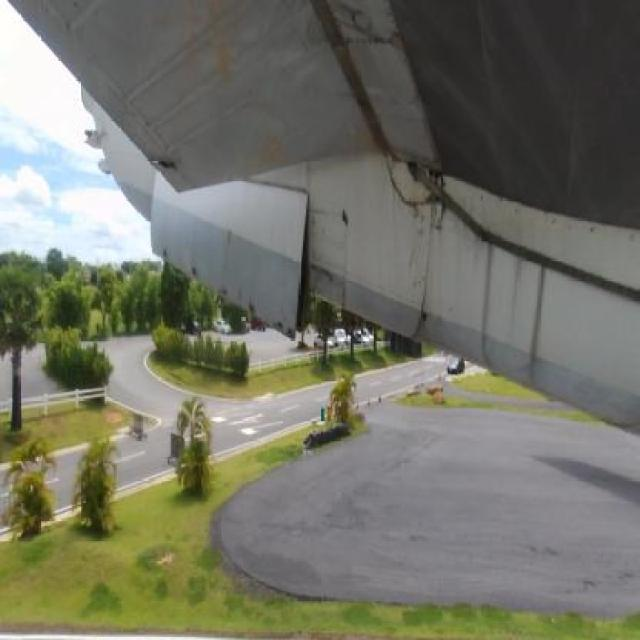Missing-Rivet: (318, 4, 351, 56), (336, 28, 396, 55)
Rust: (470, 222, 550, 390), (158, 0, 272, 111), (382, 145, 458, 243), (386, 245, 445, 358), (303, 198, 357, 314), (239, 116, 304, 190), (384, 21, 451, 90), (342, 91, 392, 172), (270, 312, 298, 354), (157, 230, 180, 272), (184, 247, 202, 290), (212, 278, 233, 310), (243, 290, 260, 328)
Scartch: (139, 143, 190, 194), (399, 187, 438, 239), (404, 244, 428, 299)
